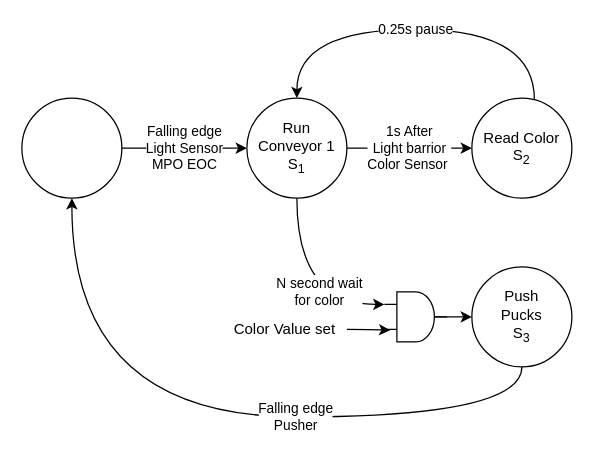
The diagram is 594 pixels wide and 455 high, and some of its shapes have lost their labels. The shapes that lost their labels are listed below. From the top down, each one's box as (x1, y1, x2, y2) in pixels, then its label:
(21, 97, 122, 198): Initial Positions S 0
(383, 291, 447, 342): And
